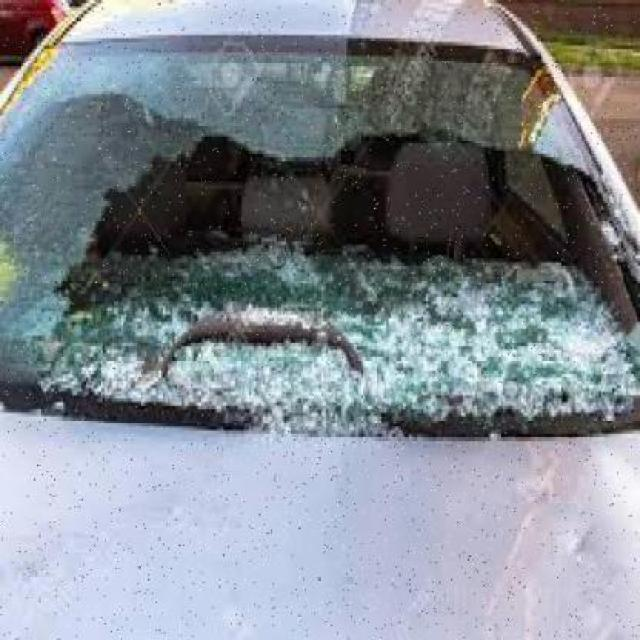Rear-windscreen-Damage: (0, 36, 638, 466)
